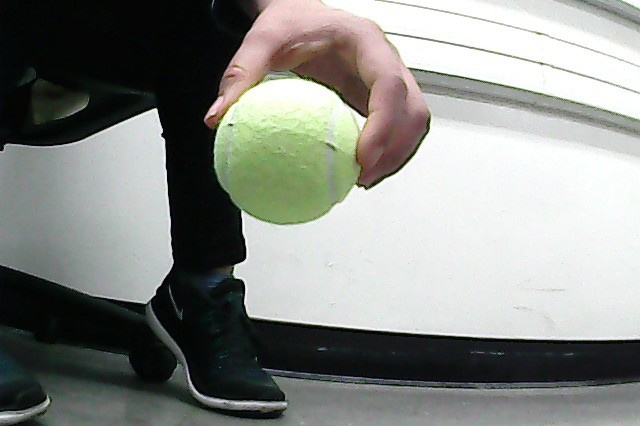ball: (215, 79, 362, 226)
